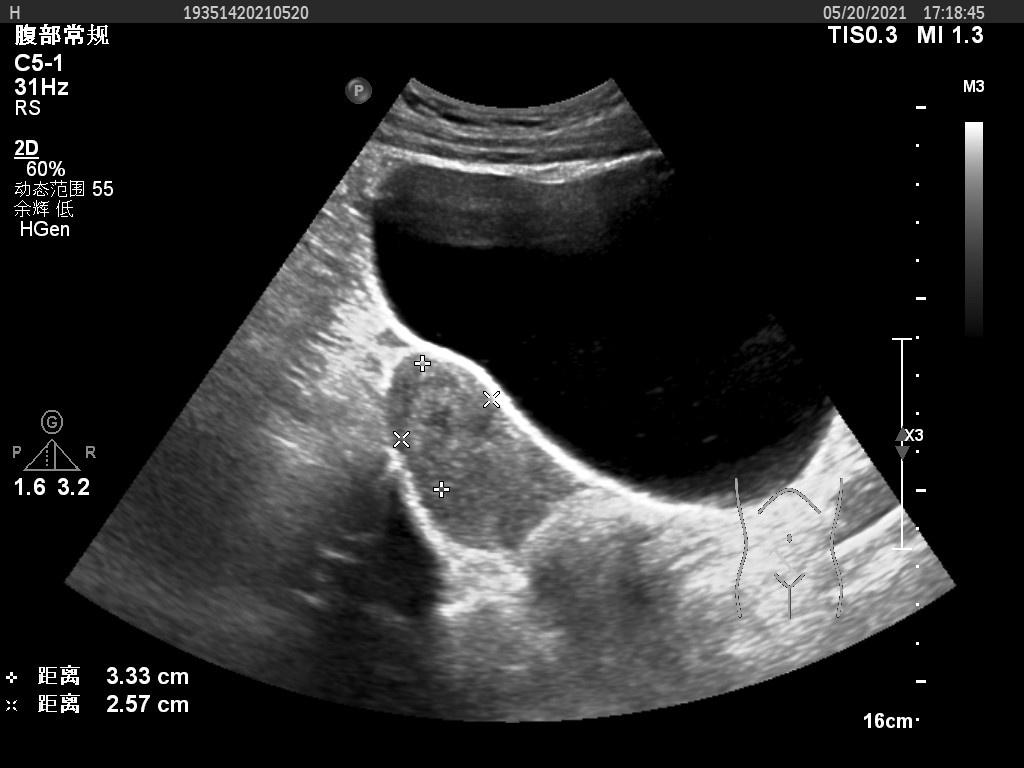肌瘤: (399, 365, 481, 485)
